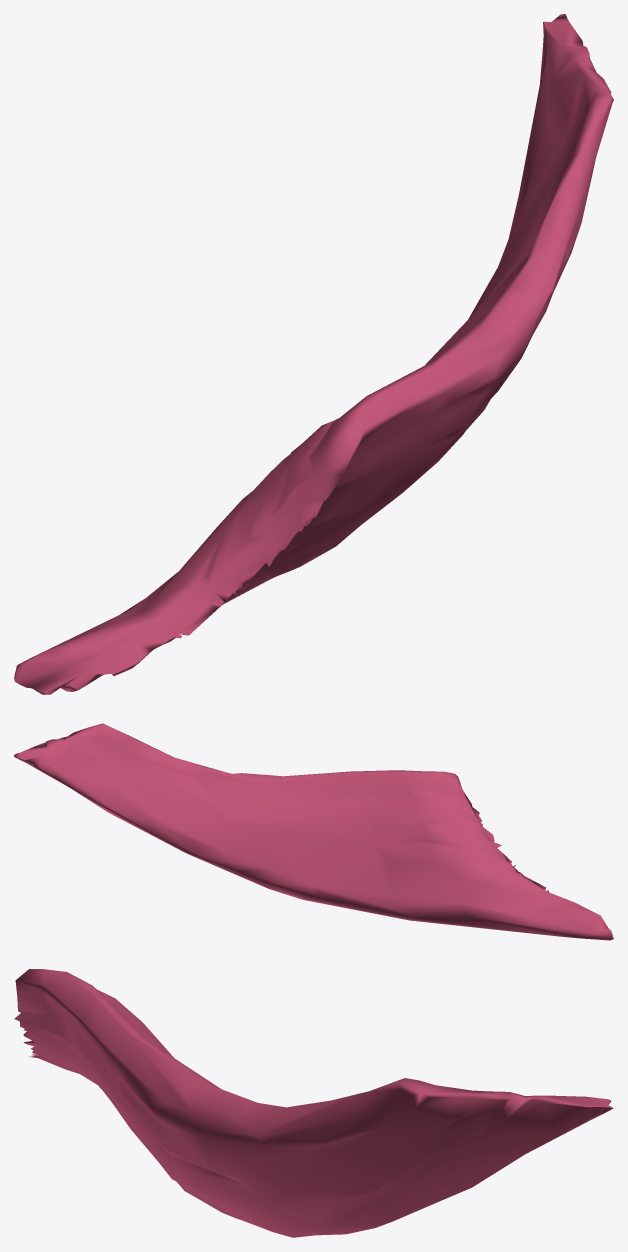
3 views of the same model, one above another, from view 1: azimuth 30°, elevation 25°; view 2: azimuth 150°, elevation 25°; view 3: azimuth 270°, elevation 25° (orthographic). The views are drawn at different scales.
Parts seen in each view (by area): view 1: 左侧胸大肌锁骨部; view 2: 左侧胸大肌锁骨部; view 3: 左侧胸大肌锁骨部.
Boxes of the visible parts, left/top/right/bottom form: 左侧胸大肌锁骨部: left=14, top=14, right=613, bottom=694; 左侧胸大肌锁骨部: left=14, top=723, right=613, bottom=940; 左侧胸大肌锁骨部: left=14, top=969, right=613, bottom=1237.
Bounding box in the file's own units: 0.2555 × 0.096 × 0.1556.
